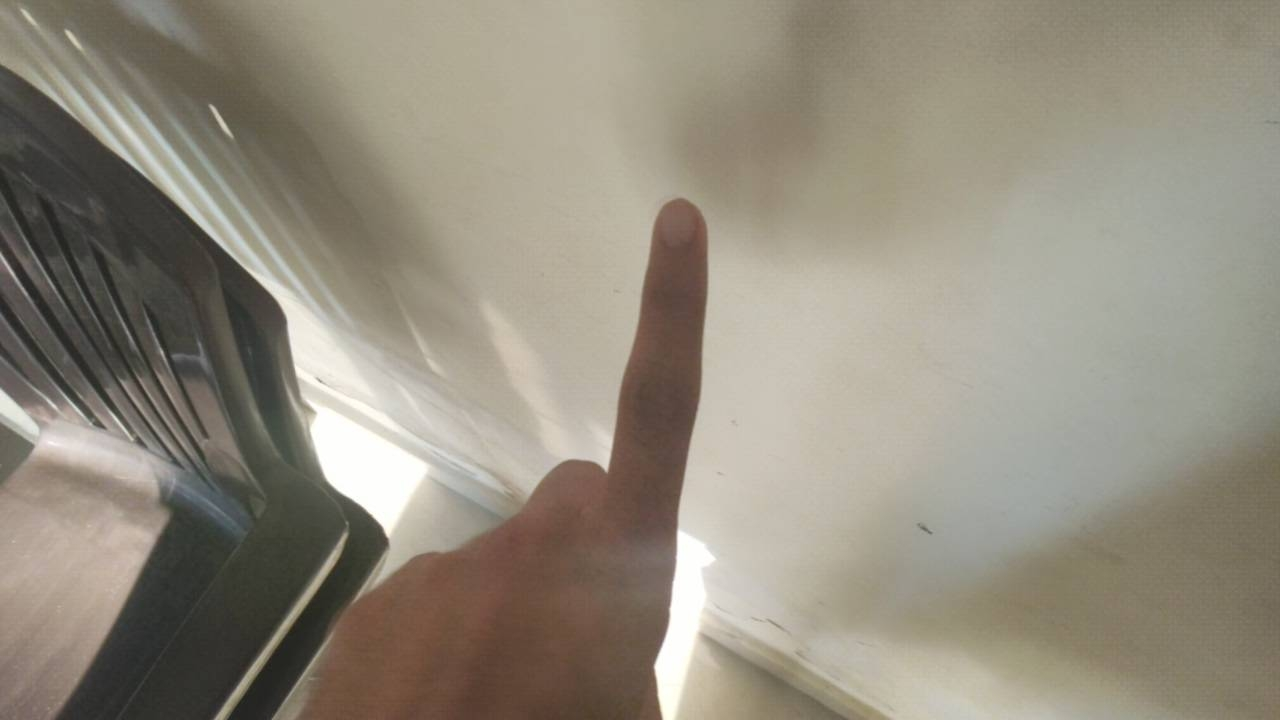fingertip: (646, 192, 714, 254)
